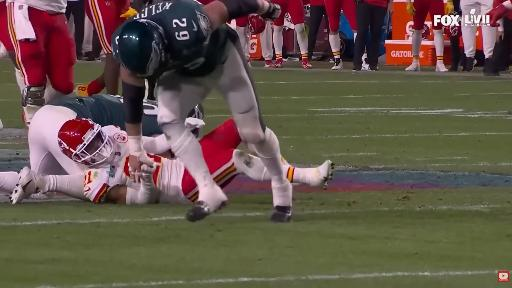Helmet: (117, 19, 167, 77), (58, 119, 113, 165), (249, 15, 266, 34), (188, 104, 204, 120), (444, 26, 461, 39), (422, 24, 430, 39), (449, 12, 457, 15)
Jersey: (113, 0, 238, 77), (84, 126, 140, 203), (49, 94, 125, 130), (7, 0, 67, 13)
Player: (113, 0, 291, 221), (11, 119, 198, 204), (7, 0, 76, 124), (28, 95, 124, 174), (77, 0, 136, 95), (406, 0, 447, 71), (273, 0, 311, 68), (461, 0, 493, 71), (0, 0, 24, 93), (325, 0, 356, 69), (249, 15, 273, 67), (235, 16, 250, 66)
